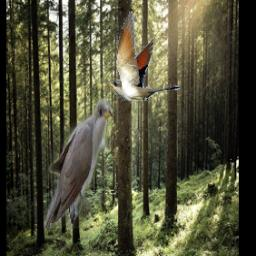Cuckoo: (44, 98, 113, 228), (108, 10, 181, 101)
